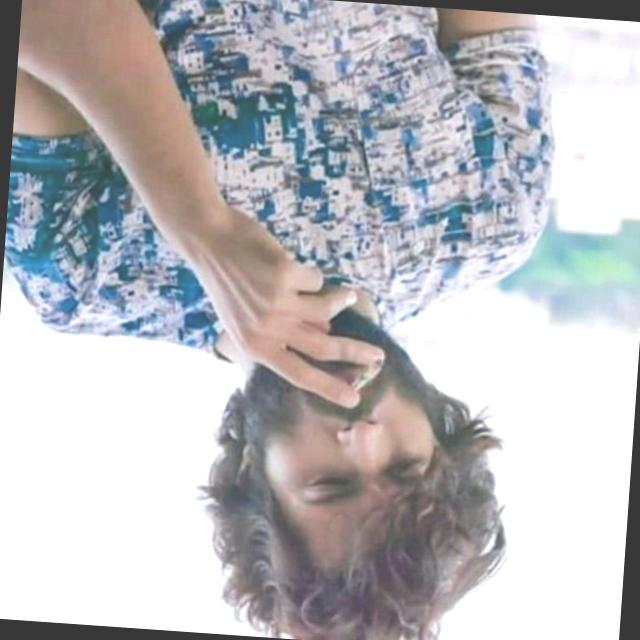smoke: (348, 359, 383, 396)
